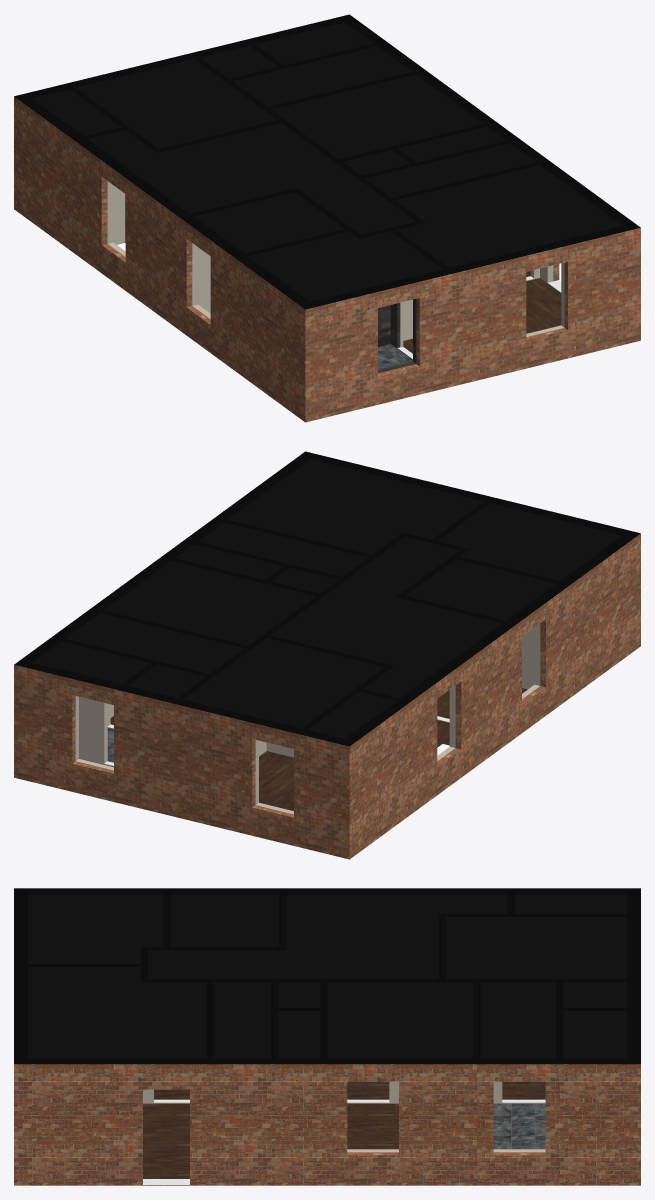
3 views of the same model, one above another, from view 1: azimuth 30°, elevation 25°; view 2: azimuth 150°, elevation 25°; view 3: azimuth 270°, elevation 25° (orthographic). The views are drawn at different scales.
Visible parts, largest first — view 1: geometry_ceiling, geometry_rs-3780.010, geometry_rs-3780.012, geometry_rs-3780.013, geometry_rs-3780.014, geometry_wallTop.016, geometry_rs-3780.011, geometry_rs-3780.015, geometry_rs-2881.014, geometry_rs-13468, geometry_wallTop.010, geometry_wallTop.013 (+10 smaller); view 2: geometry_ceiling, geometry_rs-3780.007, geometry_rs-3780.013, geometry_rs-3780.003, geometry_rs-3780.014, geometry_wallTop.016, geometry_rs-3780.011, geometry_rs-3780.006, geometry_rs-3780.009, geometry_rs-3780.015, geometry_rs-2881.014, geometry_rs-13468 (+10 smaller); view 3: geometry_ceiling, geometry_rs-3780.008, geometry_rs-3780.002, geometry_rs-3780.001, geometry_wallTop.016, geometry_rs-13468, geometry_rs-3780.005, geometry_rs-3780, geometry_rs-3780.004, geometry_rs-380, geometry_wallTop.013, geometry_wallTop.010 (+14 smaller).
Boxes of the visible parts, <box> form: geometry_ceiling: <box>32,22,622,301</box>; geometry_rs-3780.010: <box>452,228,640,386</box>; geometry_rs-3780.012: <box>305,274,452,422</box>; geometry_rs-3780.013: <box>74,141,180,330</box>; geometry_rs-3780.014: <box>234,258,305,421</box>; geometry_wallTop.016: <box>70,43,540,269</box>; geometry_rs-3780.011: <box>14,96,74,252</box>; geometry_rs-3780.015: <box>180,218,234,369</box>; geometry_rs-2881.014: <box>113,185,539,347</box>; geometry_rs-13468: <box>119,243,561,353</box>; geometry_wallTop.010: <box>448,225,640,273</box>; geometry_wallTop.013: <box>74,138,190,217</box>; geometry_ceiling: <box>32,459,622,738</box>; geometry_rs-3780.007: <box>173,703,297,846</box>; geometry_rs-3780.013: <box>410,625,515,814</box>; geometry_rs-3780.003: <box>14,665,118,802</box>; geometry_rs-3780.014: <box>570,533,640,697</box>; geometry_wallTop.016: <box>60,501,560,730</box>; geometry_rs-3780.011: <box>349,702,409,858</box>; geometry_rs-3780.006: <box>118,690,173,816</box>; geometry_rs-3780.009: <box>297,734,349,859</box>; geometry_rs-3780.015: <box>516,585,569,737</box>; geometry_rs-2881.014: <box>79,627,534,766</box>; geometry_rs-13468: <box>110,688,527,810</box>; geometry_ceiling: <box>28,894,626,1058</box>; geometry_rs-3780.008: <box>14,1064,210,1185</box>; geometry_rs-3780.002: <box>323,1064,476,1185</box>; geometry_rs-3780.001: <box>560,1064,640,1185</box>; geometry_wallTop.016: <box>25,893,629,1059</box>; geometry_rs-13468: <box>143,1081,545,1178</box>; geometry_rs-3780.005: <box>210,1064,274,1185</box>; geometry_rs-3780: <box>477,1064,559,1185</box>; geometry_rs-3780.004: <box>274,1064,323,1185</box>; geometry_rs-380: <box>493,1103,545,1149</box>; geometry_wallTop.013: <box>282,888,510,894</box>; geometry_wallTop.010: <box>14,965,28,1063</box>.
Bounding box in the file's own units: 8.71 × 2.8 × 13.1.
18 materials, 14 textured.
